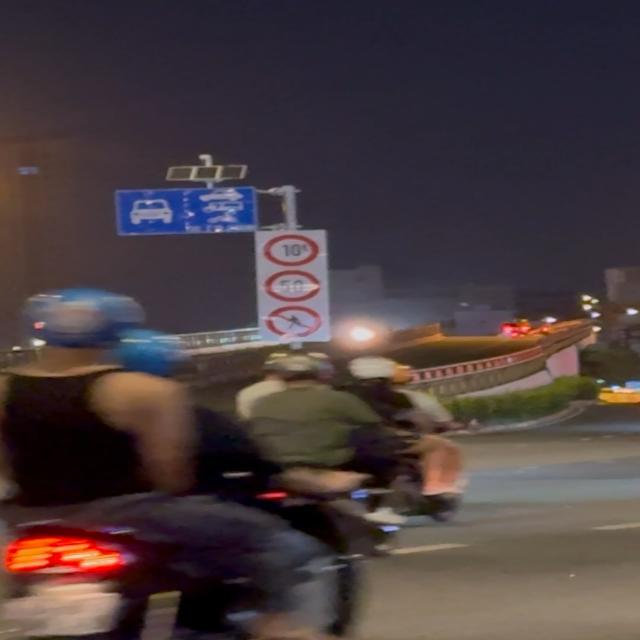Bien bao cam nguoi di bo: (264, 304, 324, 339)
Bien bao toc do toi da cho phep: (264, 269, 326, 302)
